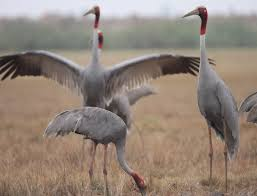seu_dau_do: (1, 5, 215, 111), (182, 6, 242, 188), (45, 106, 147, 195)
